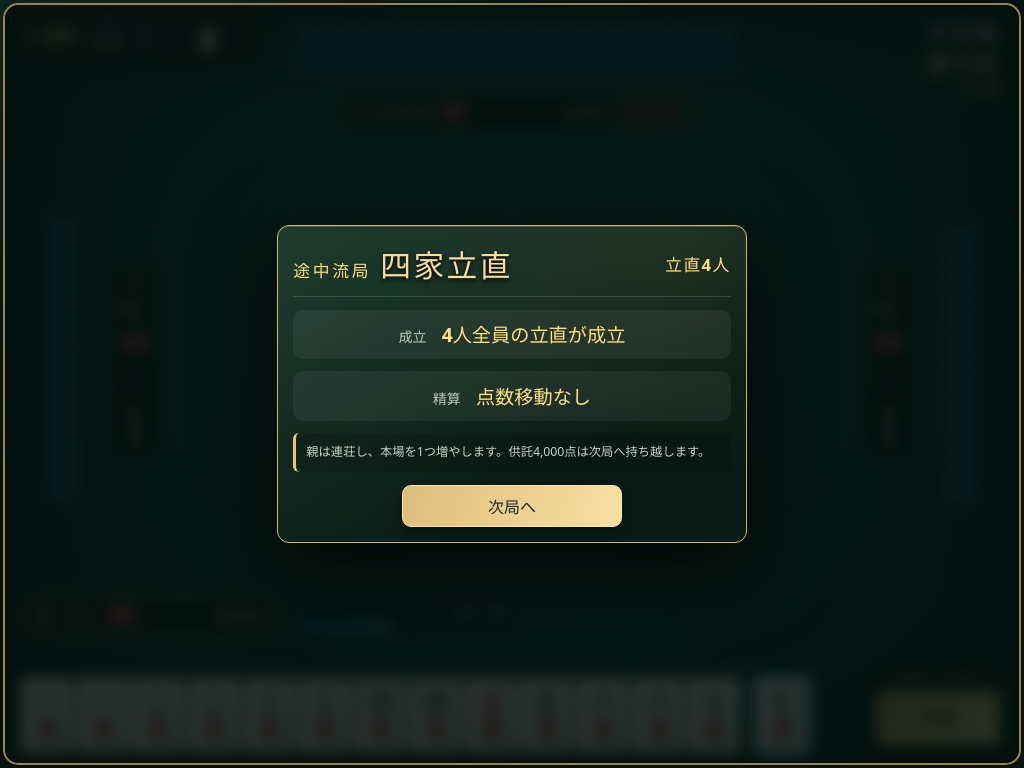
Scenario: 四家立直の結果画面 › 次局へ進むと結果画面を閉じて連荘する
Step 1. Click the button "次局へ" → (512,506), box [402, 485, 622, 527]
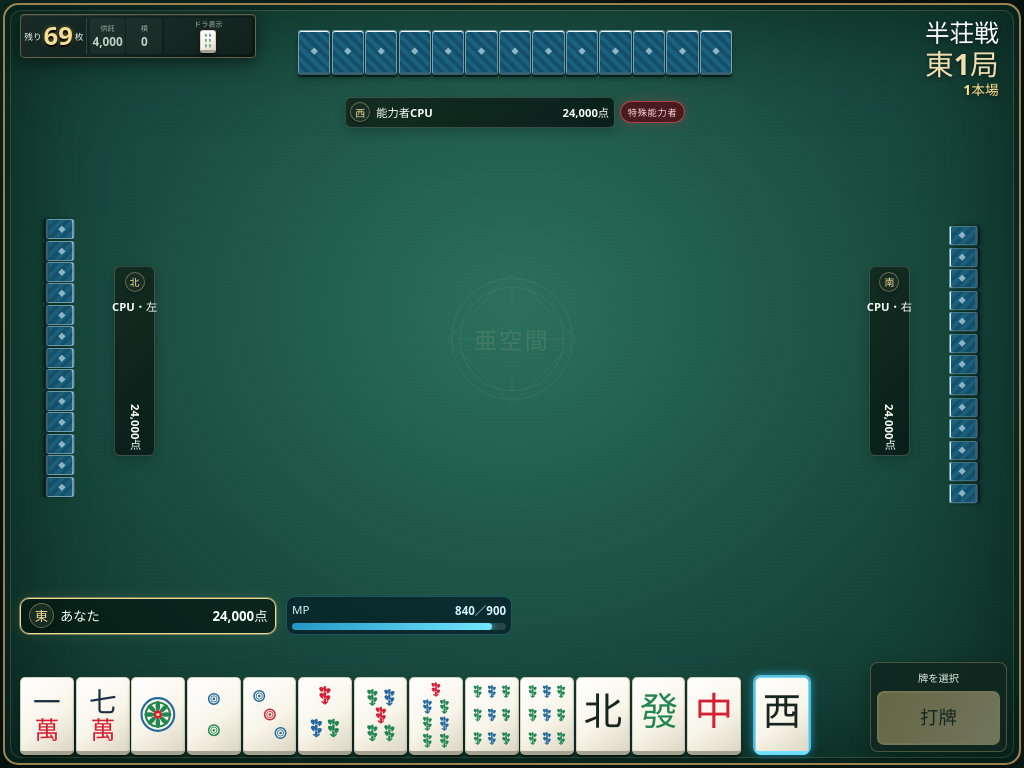
Check: the dialog "四家立直結果" is gone
Check: the text "1本場" is shown, box [963, 83, 999, 98]
